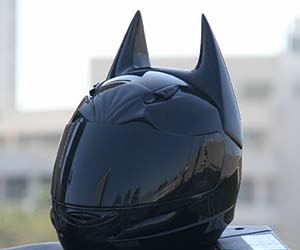with_helmet: (46, 4, 248, 244)
